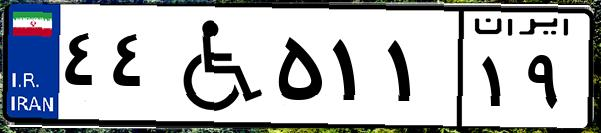1: (385, 28, 445, 110), (330, 28, 385, 110), (475, 38, 525, 113)
4: (57, 26, 110, 100), (110, 28, 158, 98)
5: (270, 28, 330, 110)
9: (525, 38, 570, 115)
ژ (معلولین و جانبازان): (158, 12, 270, 120)
